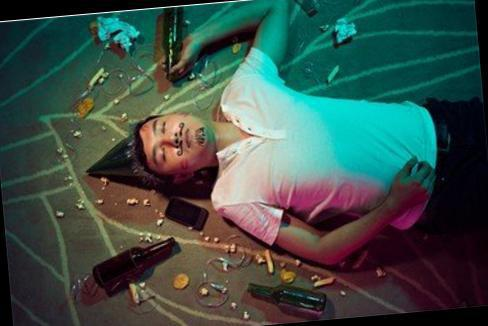Drunk: (140, 118, 212, 171)
